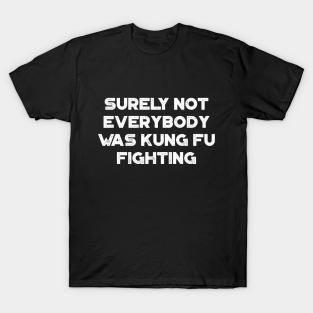design: (96, 95, 217, 166)
